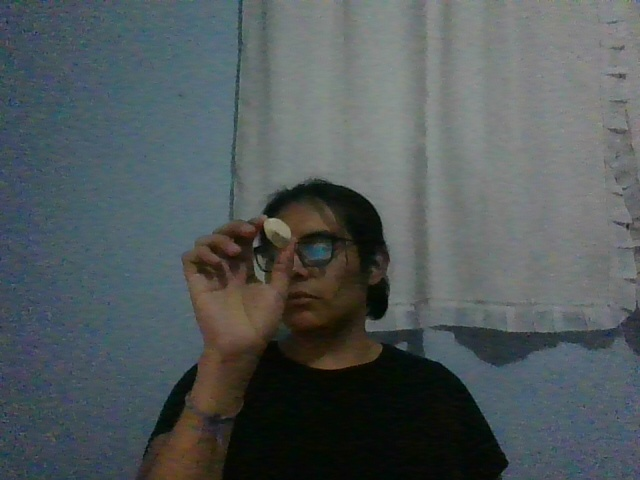goma: (263, 218, 291, 248)
